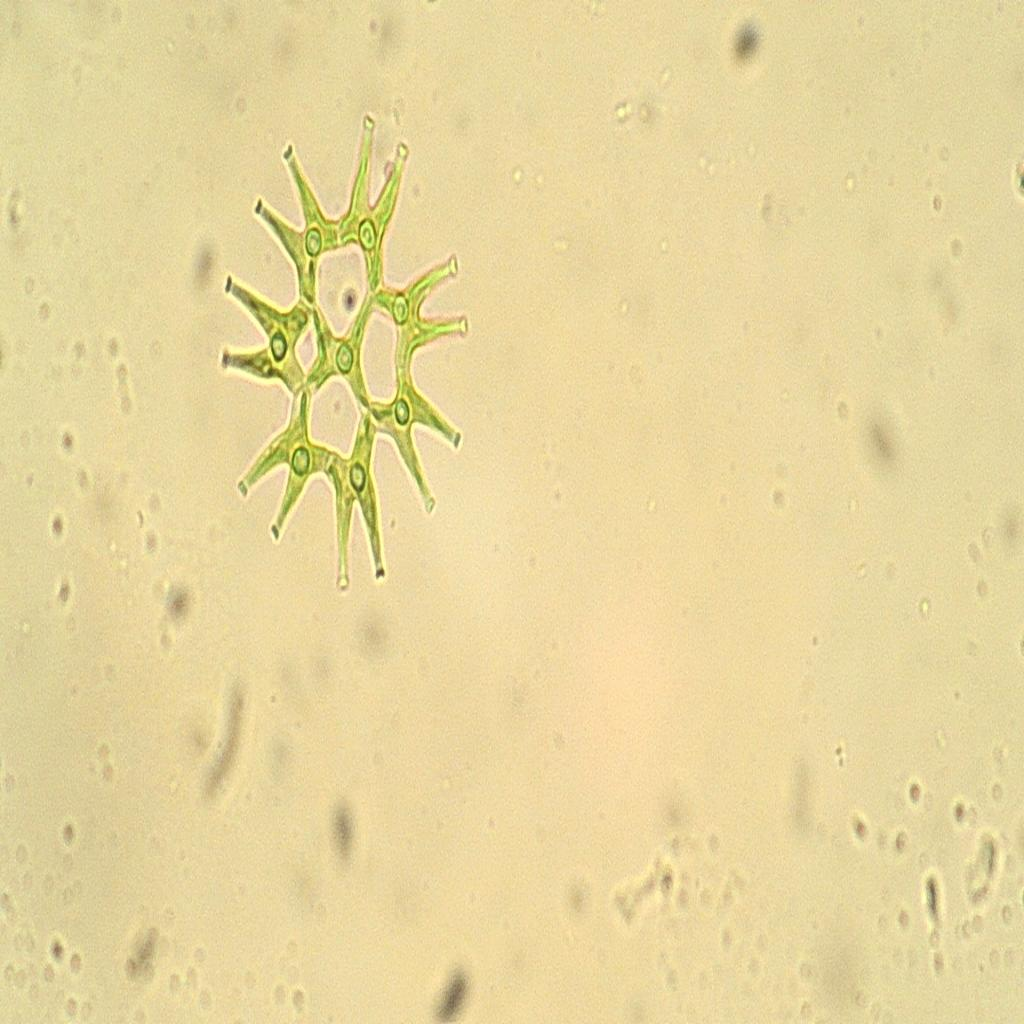Pediastrum_CTH: (214, 90, 475, 600)
